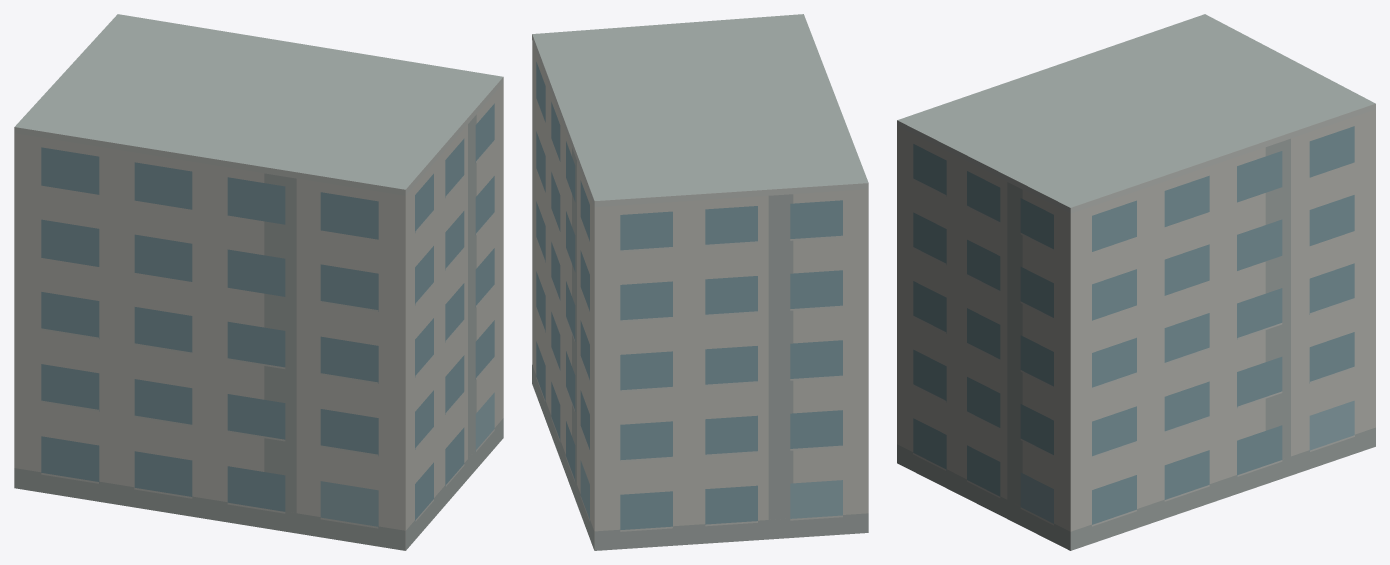
File: survey-upis-32792345.glb
3 renders of one model, left to right at view 1: azimuth 30°, elevation 25°; view 2: azimuth 150°, elevation 25°; view 3: azimuth 270°, elevation 25°, orthographic. The views are drawn at different scales.
Parts seen in each view (by area): view 1: survey-upis-32792345.tmp; view 2: survey-upis-32792345.tmp; view 3: survey-upis-32792345.tmp.
Boxes of the visible parts, box(x1,y1,x2,y2) form: survey-upis-32792345.tmp: box(14, 14, 503, 550); survey-upis-32792345.tmp: box(532, 14, 868, 550); survey-upis-32792345.tmp: box(897, 14, 1375, 550).
Bounding box in the file's own units: 16.86 × 13.9 × 17.59.
